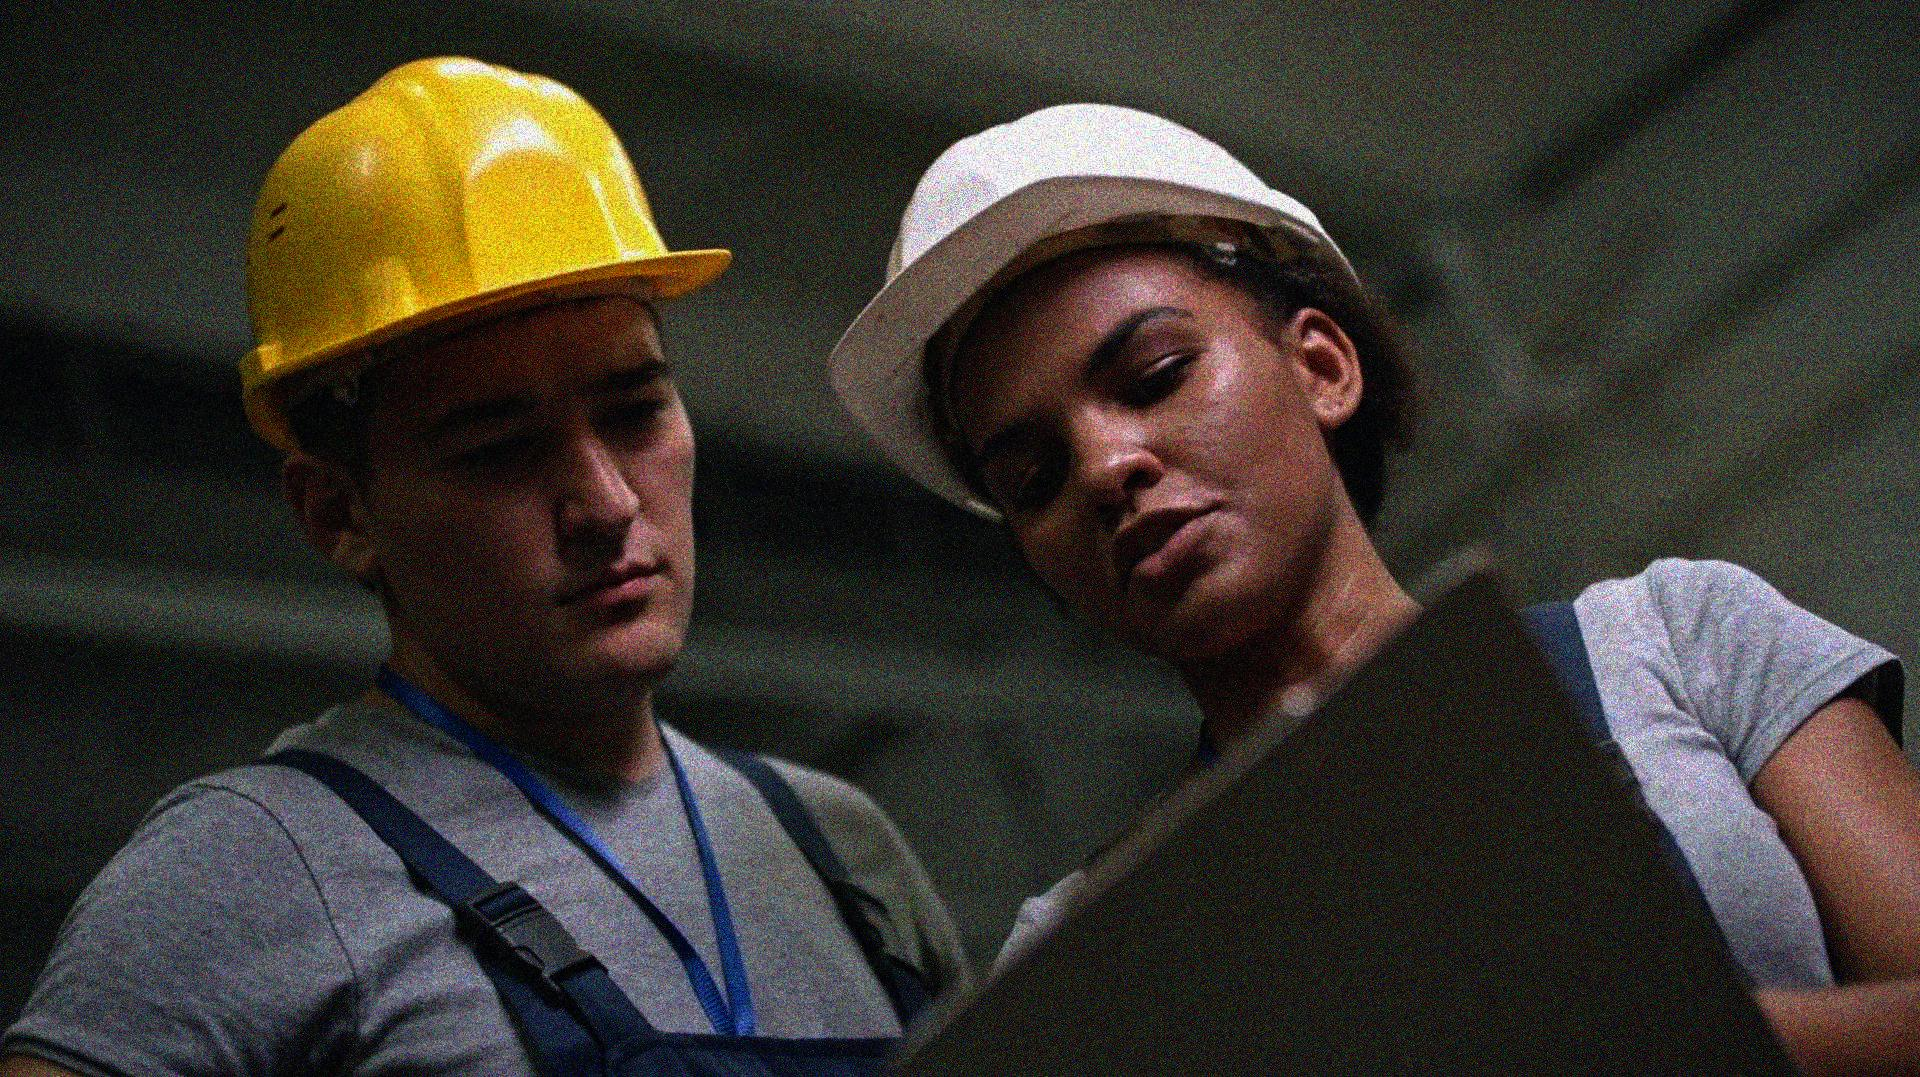helmet: (233, 47, 738, 703), (822, 96, 1382, 660)
